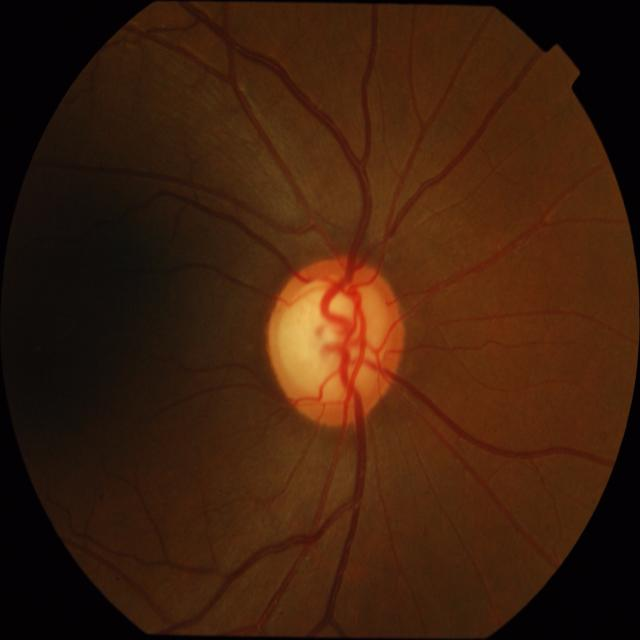OC: (277, 272, 392, 407)
OD: (265, 256, 405, 427)
